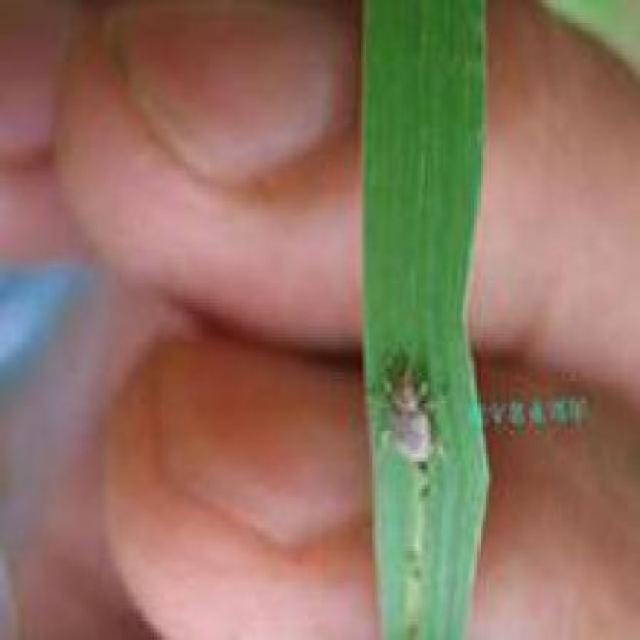rice-bug: (372, 354, 450, 469)
